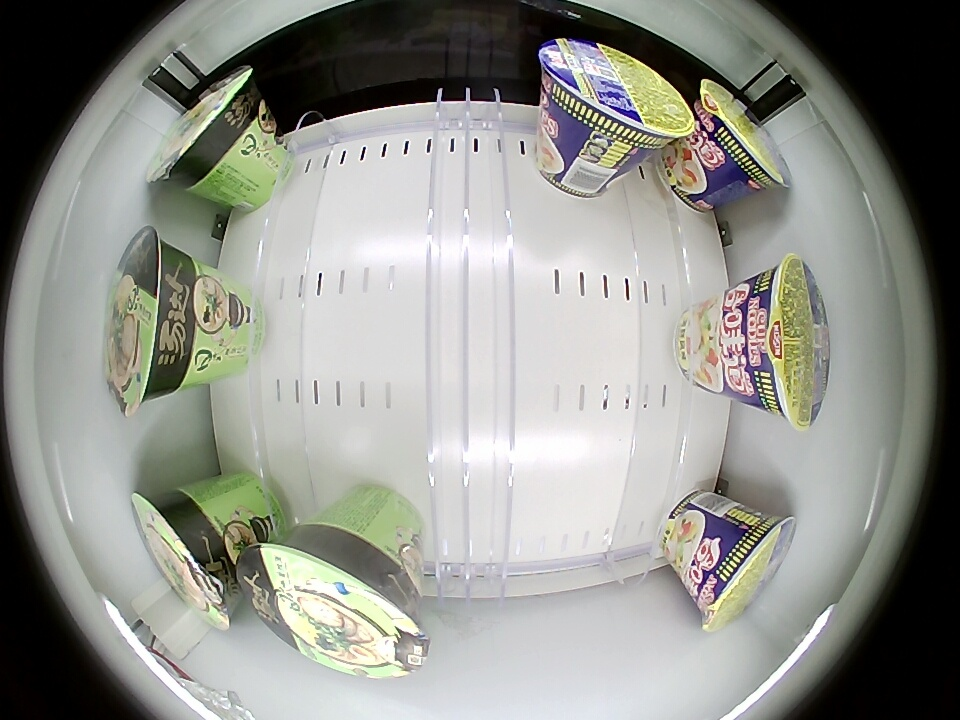heweidao: (539, 39, 693, 159), (741, 254, 831, 430), (695, 510, 798, 630), (695, 76, 794, 194)
tangdaren: (236, 526, 429, 680), (105, 228, 202, 415), (130, 487, 239, 632), (144, 61, 262, 191)
